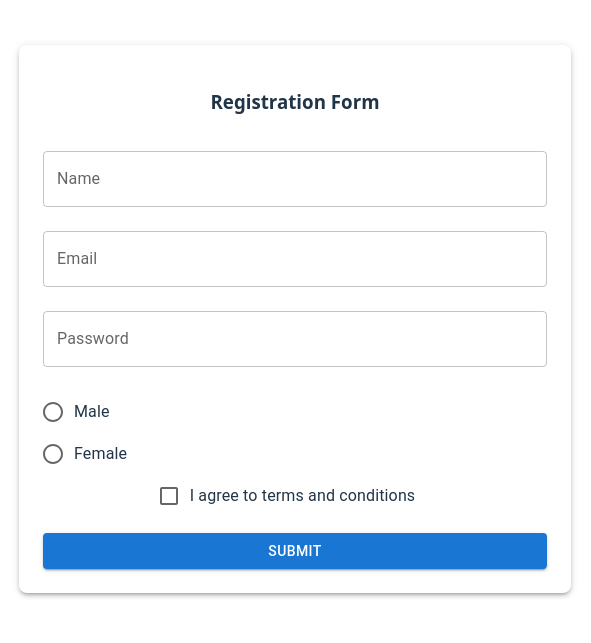
Test: Login Form Component › SHOWS ERROR for short password
The image size is (591, 643).
Step 1. Type "test@test.com" into the field labelled "Email" → (295, 258), box [43,230,547,286]
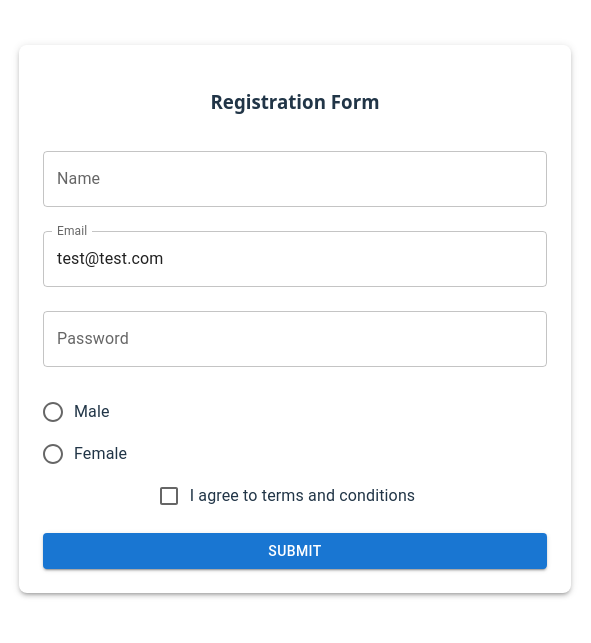
Step 2. Type "123" into the password field labelled "Password" → (295, 338), box [43,310,547,366]
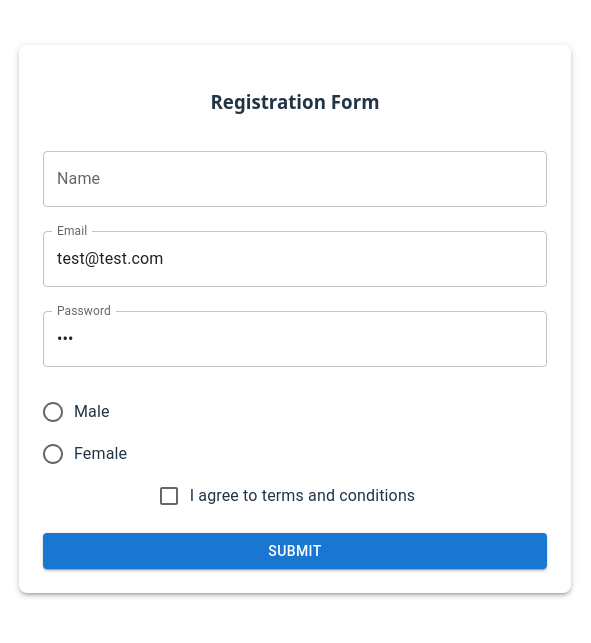
Step 3. Click the button "Submit" → (295, 551), box [43,532,547,569]
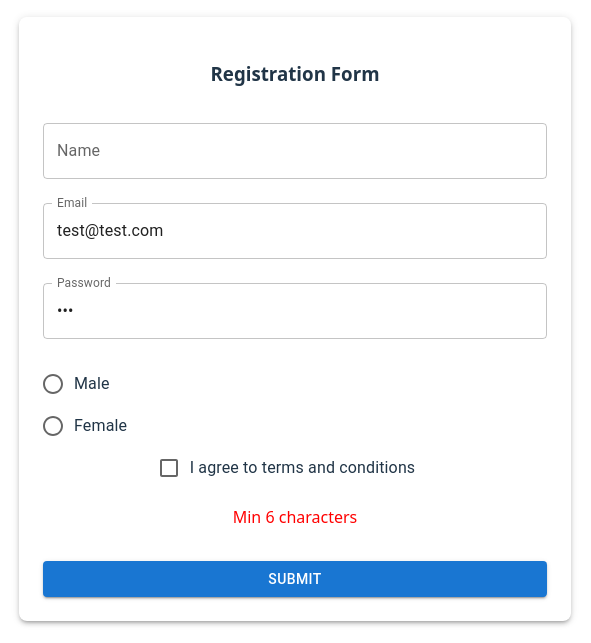
Check: the text "Min 6 characters" is shown, box [233,506,357,528]
